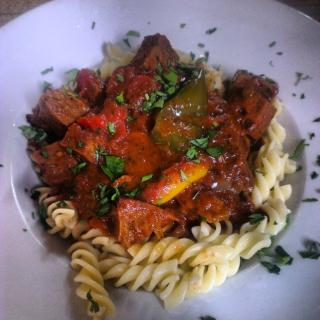Pasta: (24, 38, 308, 308)
